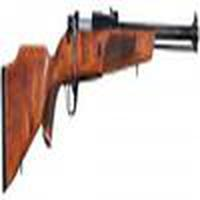gun: (1, 10, 200, 185)
